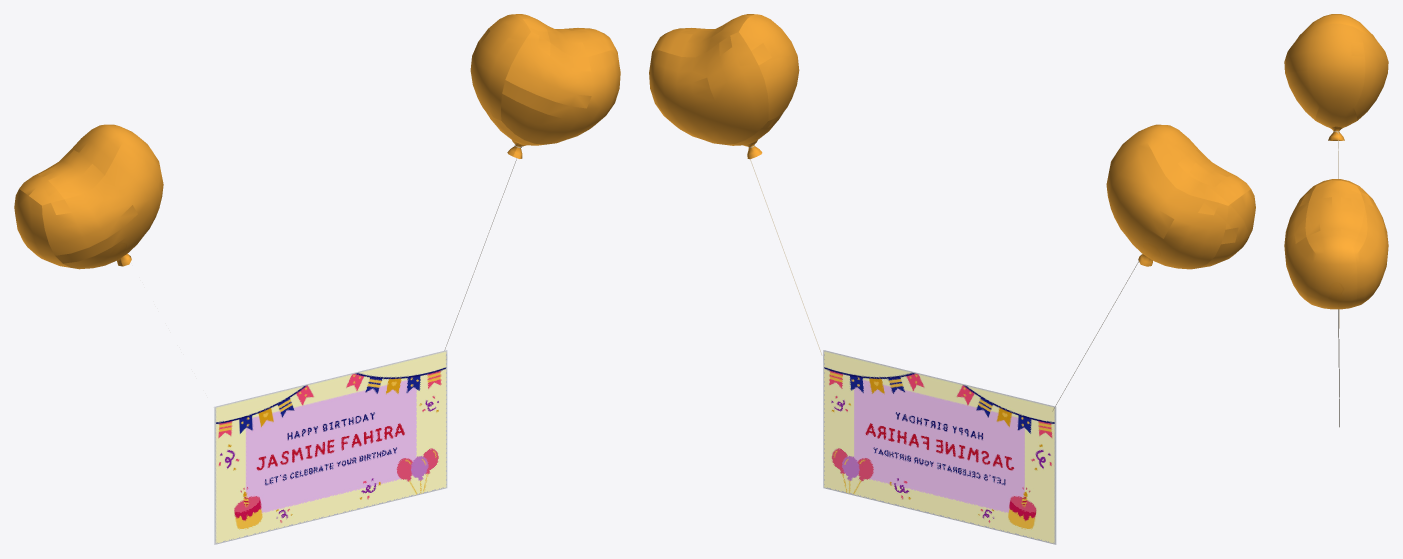
Rendered from banner.gltf.
3 renders of one model, left to right at view 1: azimuth 30°, elevation 25°; view 2: azimuth 150°, elevation 25°; view 3: azimuth 270°, elevation 25°, orthographic. The views are drawn at different scales.
Parts seen in each view (by area): view 1: banner, Object_11.001, Object_11; view 2: banner, Object_11, Object_11.001; view 3: Object_11.001, Object_11.
Part boxes in pixels (<box>): banner: <box>214,350,447,544</box>; Object_11.001: <box>444,14,620,350</box>; Object_11: <box>14,124,163,269</box>; banner: <box>823,350,1056,544</box>; Object_11: <box>1052,124,1255,411</box>; Object_11.001: <box>649,14,822,355</box>; Object_11.001: <box>1284,179,1388,427</box>; Object_11: <box>1284,14,1388,328</box>.
Bounding box in the file's own units: 4.49 × 3.28 × 0.7834.
5 materials, 1 textured.
